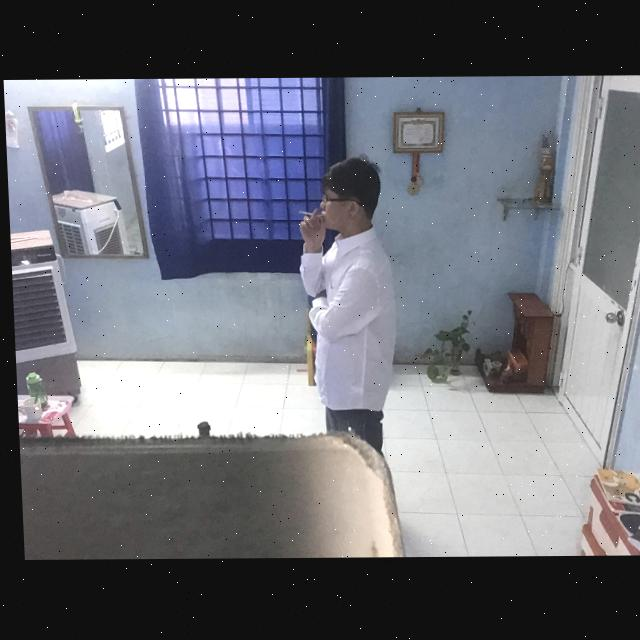cigarette: (297, 210, 320, 218)
